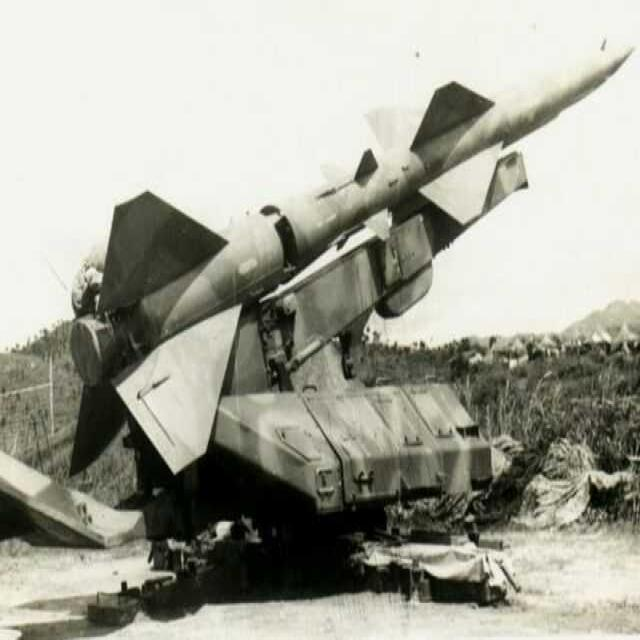missile: (61, 23, 639, 494)
